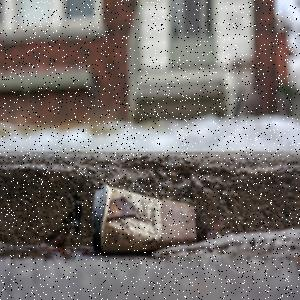Cup: (93, 185, 197, 255)
